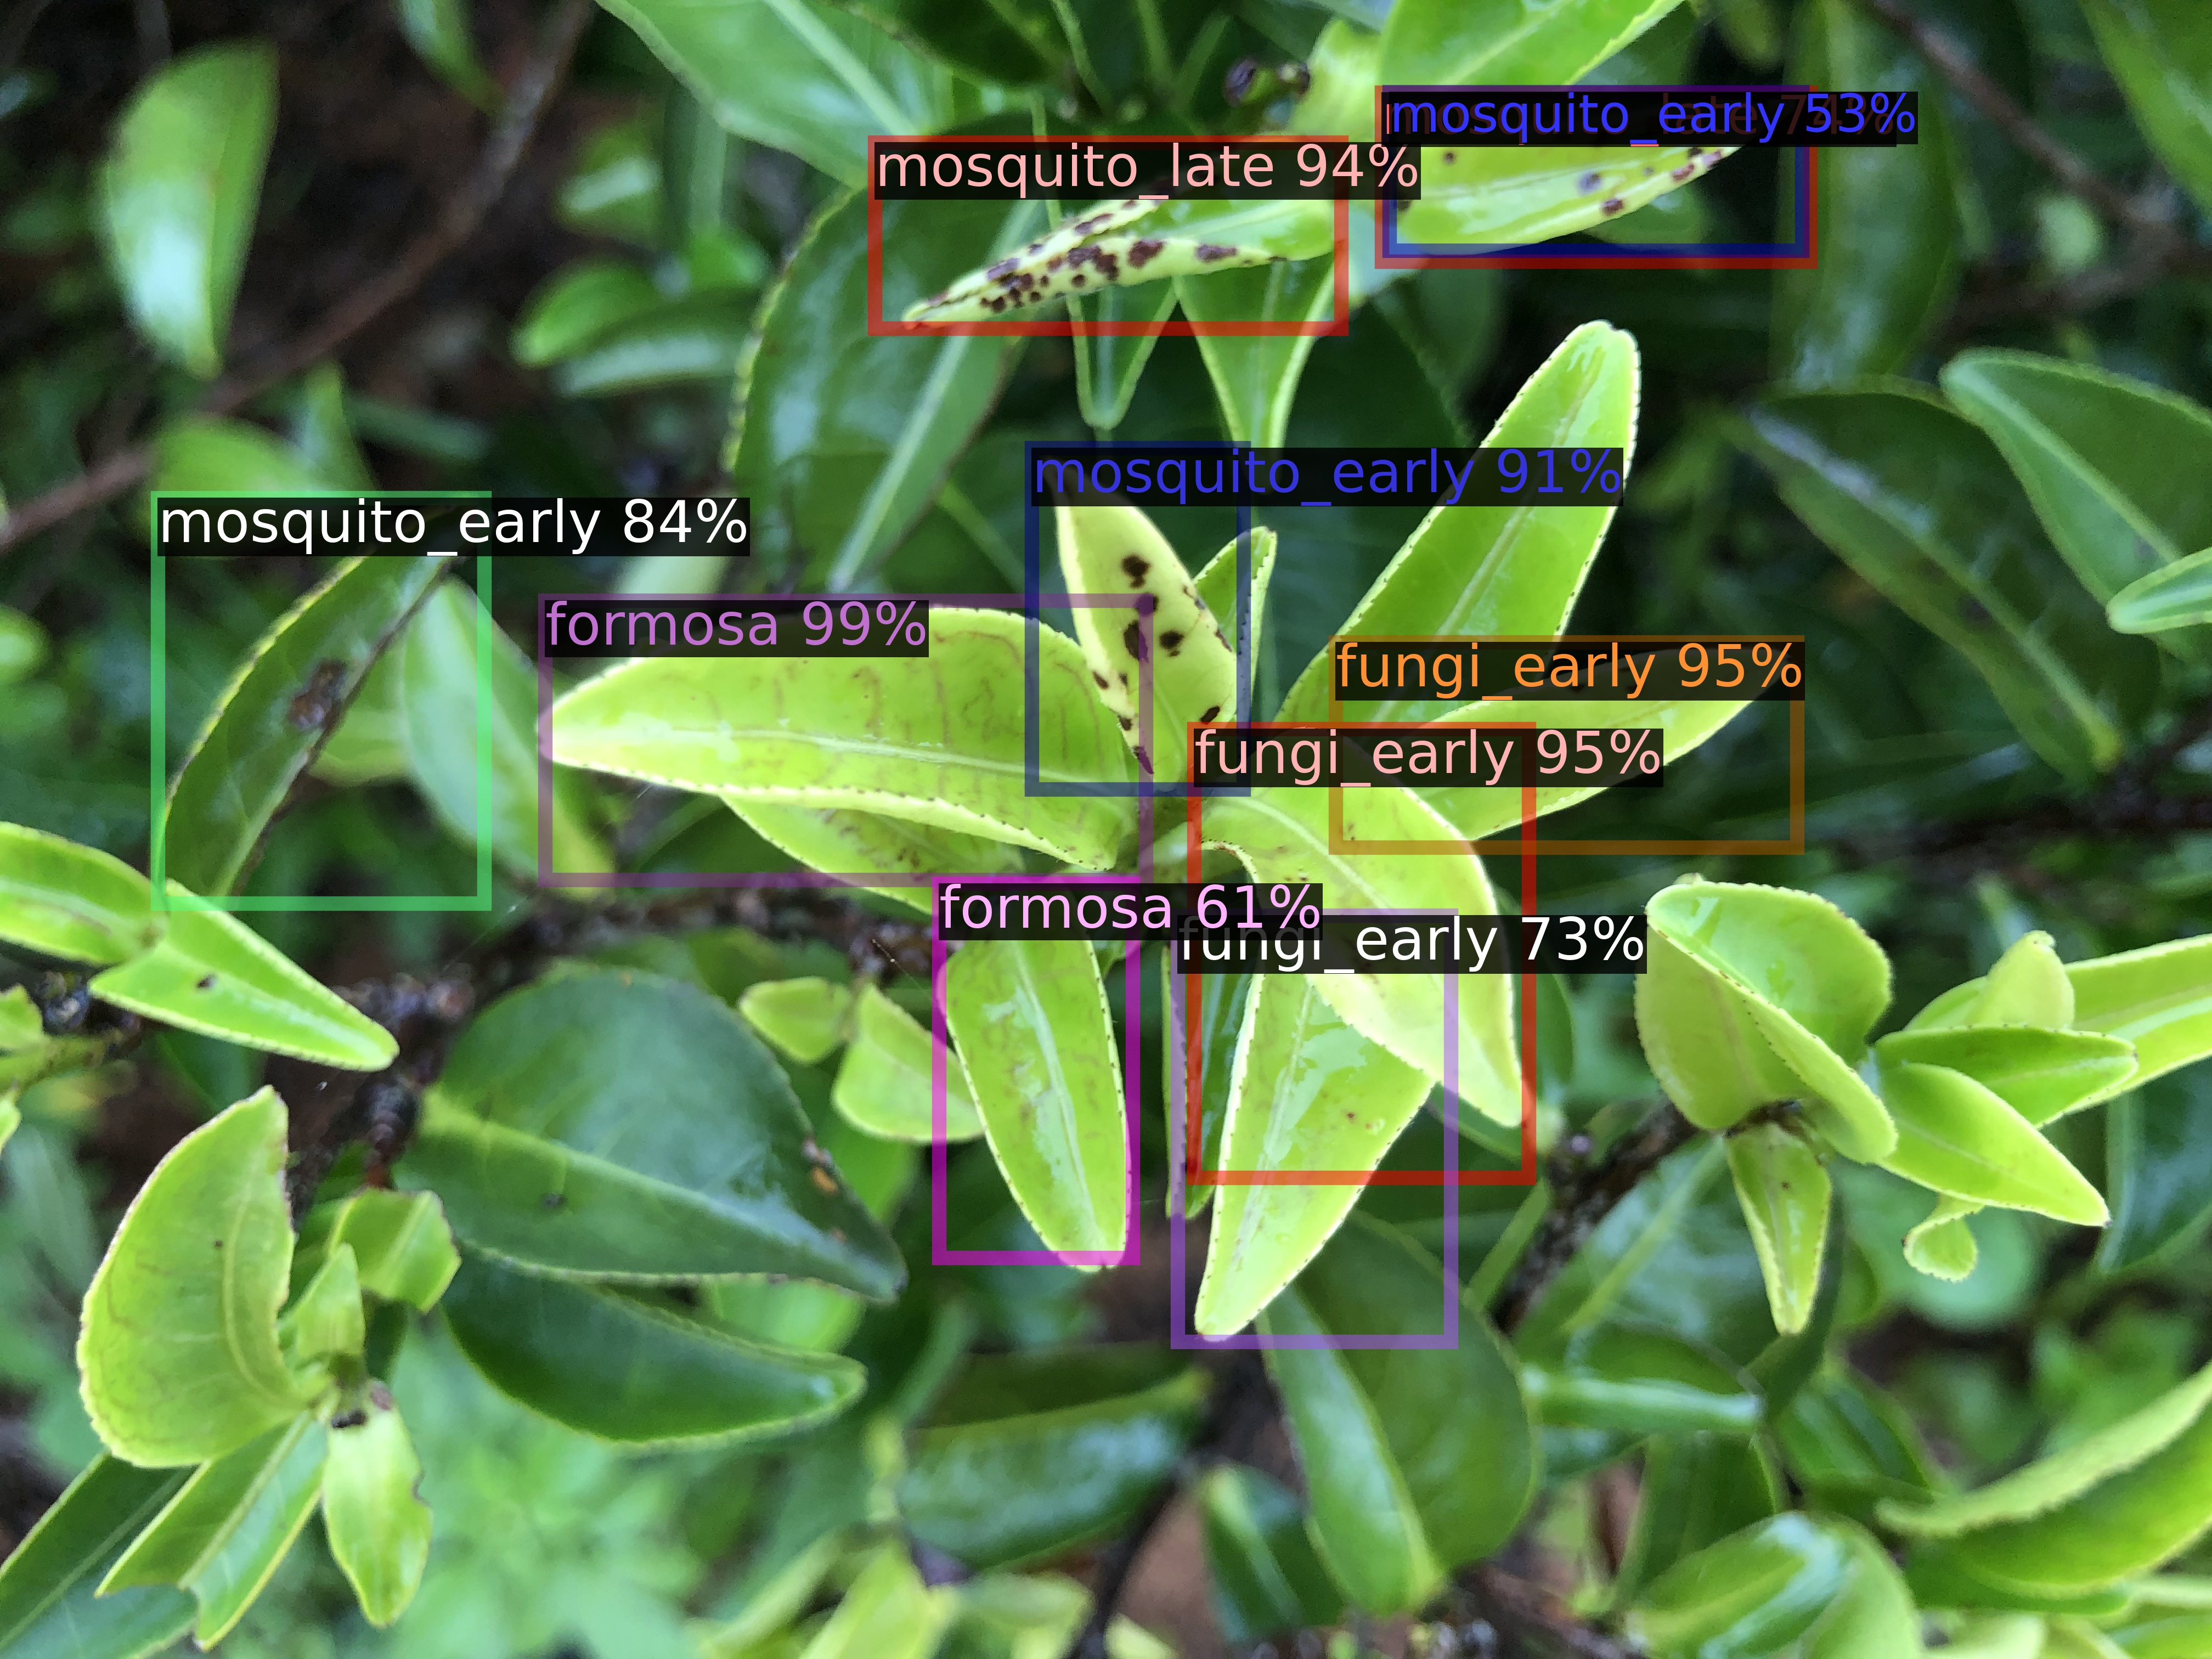formosa: (545, 599, 1146, 880), (939, 884, 1132, 1258)
fungi_early: (1195, 728, 1529, 1178), (1177, 915, 1451, 1342), (1336, 643, 1797, 847)
mosquito_early: (158, 498, 484, 903), (1031, 448, 1244, 789), (1390, 92, 1801, 251)
mosquito_late: (874, 143, 1341, 328), (1381, 92, 1810, 261)
